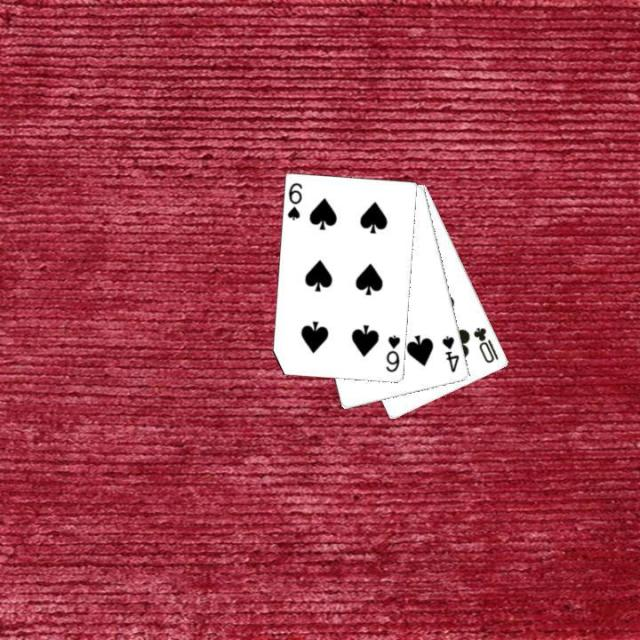10C: (470, 324, 500, 366)
4S: (438, 332, 462, 374)
6S: (382, 331, 403, 374), (284, 179, 304, 222)
